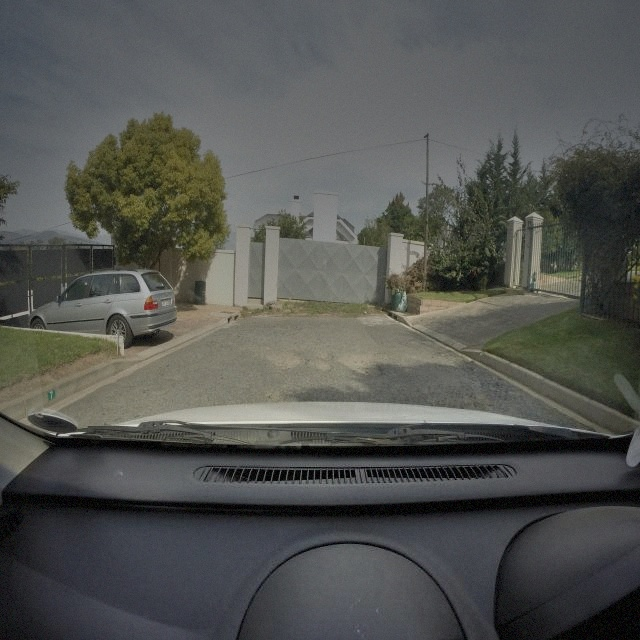pothole: (338, 353, 377, 377), (272, 349, 302, 371), (316, 360, 332, 370)
